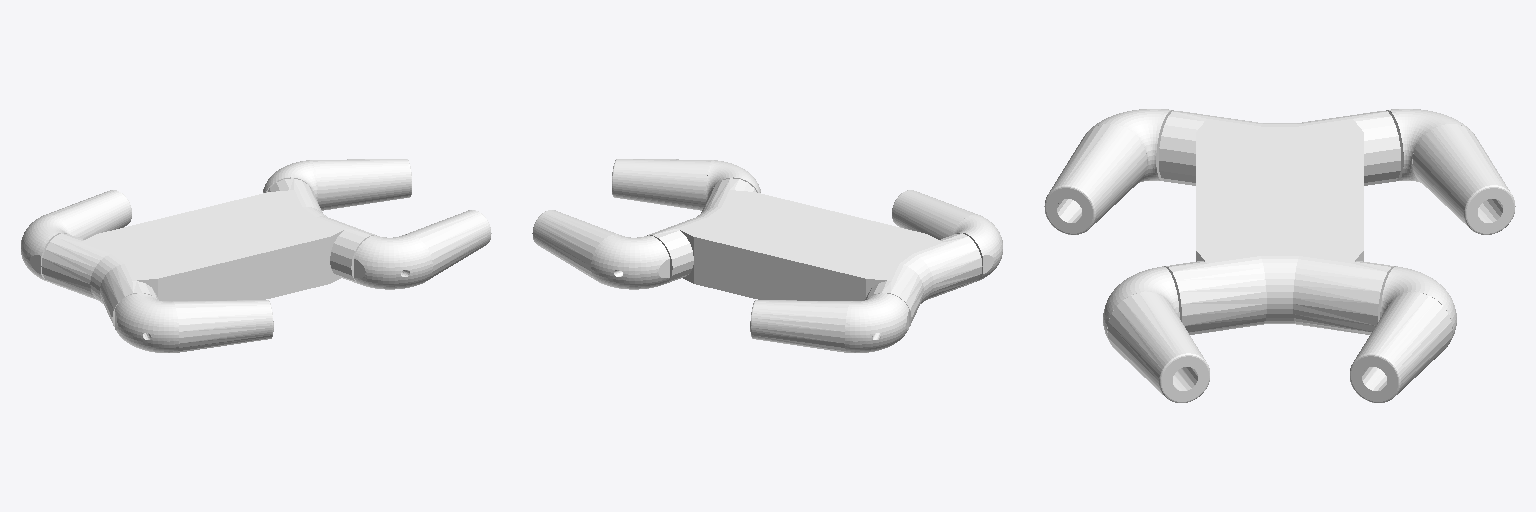
robot.urdf — 19_degree:
<?xml version="1.0" encoding="utf-8"?>
<!-- This URDF was automatically created by SolidWorks to URDF Exporter! Originally created by [author] ([email redacted]) 
     Commit Version: 1.5.1-0-g916b5db  Build Version: 1.5.7152.31018
     For more information, please see http://wiki.ros.org/sw_urdf_exporter -->
<robot
  name="19_degree">
  <link
    name="base_link">
    <inertial>
      <origin
        xyz="6.9389E-18 4.1935E-08 3.3916E-08"
        rpy="0 0 0" />
      <mass
        value="2.942" />
      <inertia
        ixx="0.0098264"
        ixy="6.6174E-20"
        ixz="-1.5417E-10"
        iyy="0.0450139"
        iyz="4.1774E-19"
        izz="0.0524322" />
    </inertial>
    <visual>
      <origin
        xyz="0 0 0"
        rpy="0 0 0" />
      <geometry>
        <mesh
          filename="package://19_degree/meshes/base_link.STL" />
      </geometry>
      <material
        name="">
        <color
          rgba="1 1 1 1" />
      </material>
    </visual>
    <collision>
      <origin
        xyz="0 0 0"
        rpy="0 0 0" />
      <geometry>
        <mesh
          filename="package://19_degree/meshes/base_link.STL" />
      </geometry>
    </collision>
  </link>
  <link
    name="left_front_link">
    <inertial>
      <origin
        xyz="-9.9038E-08 0.065461 -0.015545"
        rpy="0 0 0" />
      <mass
        value="0.092" />
      <inertia
        ixx="0.0002604"
        ixy="4.4072E-10"
        ixz="9.1821E-10"
        iyy="0.0000604"
        iyz="-0.0000452"
        izz="0.0002498" />
    </inertial>
    <visual>
      <origin
        xyz="0 0 0"
        rpy="0 0 0" />
      <geometry>
        <mesh
          filename="package://19_degree/meshes/left_front_link.STL" />
      </geometry>
      <material
        name="">
        <color
          rgba="1 1 1 1" />
      </material>
    </visual>
    <collision>
      <origin
        xyz="0 0 0"
        rpy="0 0 0" />
      <geometry>
        <mesh
          filename="package://19_degree/meshes/left_front_link.STL" />
      </geometry>
    </collision>
  </link>
  <joint
    name="left_front_leg"
    type="continuous">
    <origin
      xyz="0.16353 0.097388 0"
      rpy="1.5708 1.5708 0" />
    <parent
      link="base_link" />
    <child
      link="left_front_link" />
    <axis
      xyz="0 0.32557 -0.94552" />
    <limit
      effort="5"
      velocity="487" />
  </joint>
  <link
    name="right_front_link">
    <inertial>
      <origin
        xyz="9.9038E-08 0.065461 0.015545"
        rpy="0 0 0" />
      <mass
        value="0.092" />
      <inertia
        ixx="0.0002604"
        ixy="-4.4072E-10"
        ixz="9.1821E-10"
        iyy="0.0000604"
        iyz="0.0000452"
        izz="0.0002498" />
    </inertial>
    <visual>
      <origin
        xyz="0 0 0"
        rpy="0 0 0" />
      <geometry>
        <mesh
          filename="package://19_degree/meshes/right_front_link.STL" />
      </geometry>
      <material
        name="">
        <color
          rgba="1 1 1 1" />
      </material>
    </visual>
    <collision>
      <origin
        xyz="0 0 0"
        rpy="0 0 0" />
      <geometry>
        <mesh
          filename="package://19_degree/meshes/right_front_link.STL" />
      </geometry>
    </collision>
  </link>
  <joint
    name="right_front_leg"
    type="continuous">
    <origin
      xyz="0.16353 -0.097388 0"
      rpy="1.5708 1.5708 0" />
    <parent
      link="base_link" />
    <child
      link="right_front_link" />
    <axis
      xyz="0 0.32557 0.94552" />
    <limit
      effort="5"
      velocity="487" />
  </joint>
  <link
    name="right_back_link">
    <inertial>
      <origin
        xyz="8.4847E-08 0.056834 0.03601"
        rpy="0 0 0" />
      <mass
        value="0.092" />
      <inertia
        ixx="0.0002604"
        ixy="-5.3082E-10"
        ixz="2.3773E-10"
        iyy="0.0000526"
        iyz="-2.27E-05"
        izz="0.0002575" />
    </inertial>
    <visual>
      <origin
        xyz="0 0 0"
        rpy="0 0 0" />
      <geometry>
        <mesh
          filename="package://19_degree/meshes/right_back_link.STL" />
      </geometry>
      <material
        name="">
        <color
          rgba="1 1 1 1" />
      </material>
    </visual>
    <collision>
      <origin
        xyz="0 0 0"
        rpy="0 0 0" />
      <geometry>
        <mesh
          filename="package://19_degree/meshes/right_back_link.STL" />
      </geometry>
    </collision>
  </link>
  <joint
    name="right_back_leg"
    type="continuous">
    <origin
      xyz="-0.16353 -0.097388 0"
      rpy="1.9024 1.5708 0" />
    <parent
      link="base_link" />
    <child
      link="right_back_link" />
    <axis
      xyz="0 0 1" />
    <limit
      effort="5"
      velocity="487" />
  </joint>
  <link
    name="left_back_link">
    <inertial>
      <origin
        xyz="-8.4847E-08 0.042014 -0.052552"
        rpy="0 0 0" />
      <mass
        value="0.092" />
      <inertia
        ixx="0.0002604"
        ixy="5.793E-10"
        ixz="5.196E-11"
        iyy="0.0000883"
        iyz="0.0000809"
        izz="0.0002218" />
    </inertial>
    <visual>
      <origin
        xyz="0 0 0"
        rpy="0 0 0" />
      <geometry>
        <mesh
          filename="package://19_degree/meshes/left_back_link.STL" />
      </geometry>
      <material
        name="">
        <color
          rgba="1 1 1 1" />
      </material>
    </visual>
    <collision>
      <origin
        xyz="0 0 0"
        rpy="0 0 0" />
      <geometry>
        <mesh
          filename="package://19_degree/meshes/left_back_link.STL" />
      </geometry>
    </collision>
  </link>
  <joint
    name="left_back_leg"
    type="continuous">
    <origin
      xyz="-0.16353 0.097388 0"
      rpy="1.5708 1.5708 0" />
    <parent
      link="base_link" />
    <child
      link="left_back_link" />
    <axis
      xyz="0 -0.32557 -0.94552" />
    <limit
      effort="5"
      velocity="487" />
  </joint>
</robot>

--- What the picture shows (computed from the rendered views, not written in the file) ---
Views: 3 orthographic renders of the robot side by side, from view 1: azimuth 30°, elevation 25°; view 2: azimuth 150°, elevation 25°; view 3: azimuth 270°, elevation 25°.
Model 19_degree with 5 links and 4 joints (4 continuous), rooted at base_link, posed every joint at zero.
Visible links, largest first — view 1: base_link, right_back_link, right_front_link, left_front_link, left_back_link; view 2: base_link, left_back_link, left_front_link, right_front_link, right_back_link; view 3: base_link, left_back_link, right_back_link, left_front_link, right_front_link.
Link boxes in pixels (bbox=[...]): base_link: bbox=[41, 178, 376, 326]; right_back_link: bbox=[115, 293, 273, 352]; right_front_link: bbox=[354, 210, 491, 289]; left_front_link: bbox=[263, 159, 411, 210]; left_back_link: bbox=[21, 190, 131, 281]; base_link: bbox=[647, 178, 982, 326]; left_back_link: bbox=[750, 293, 908, 352]; left_front_link: bbox=[532, 210, 669, 289]; right_front_link: bbox=[612, 159, 760, 210]; right_back_link: bbox=[892, 190, 1002, 281]; base_link: bbox=[1159, 111, 1400, 334]; left_back_link: bbox=[1386, 109, 1515, 234]; right_back_link: bbox=[1044, 109, 1173, 234]; left_front_link: bbox=[1350, 266, 1456, 402]; right_front_link: bbox=[1103, 266, 1209, 402].
Size in the robot's own frame: 0.5316 by 0.4181 by 0.064 metres.
Meshes: 5 distinct files referenced, 5 mesh visuals loaded (5 binary STL).